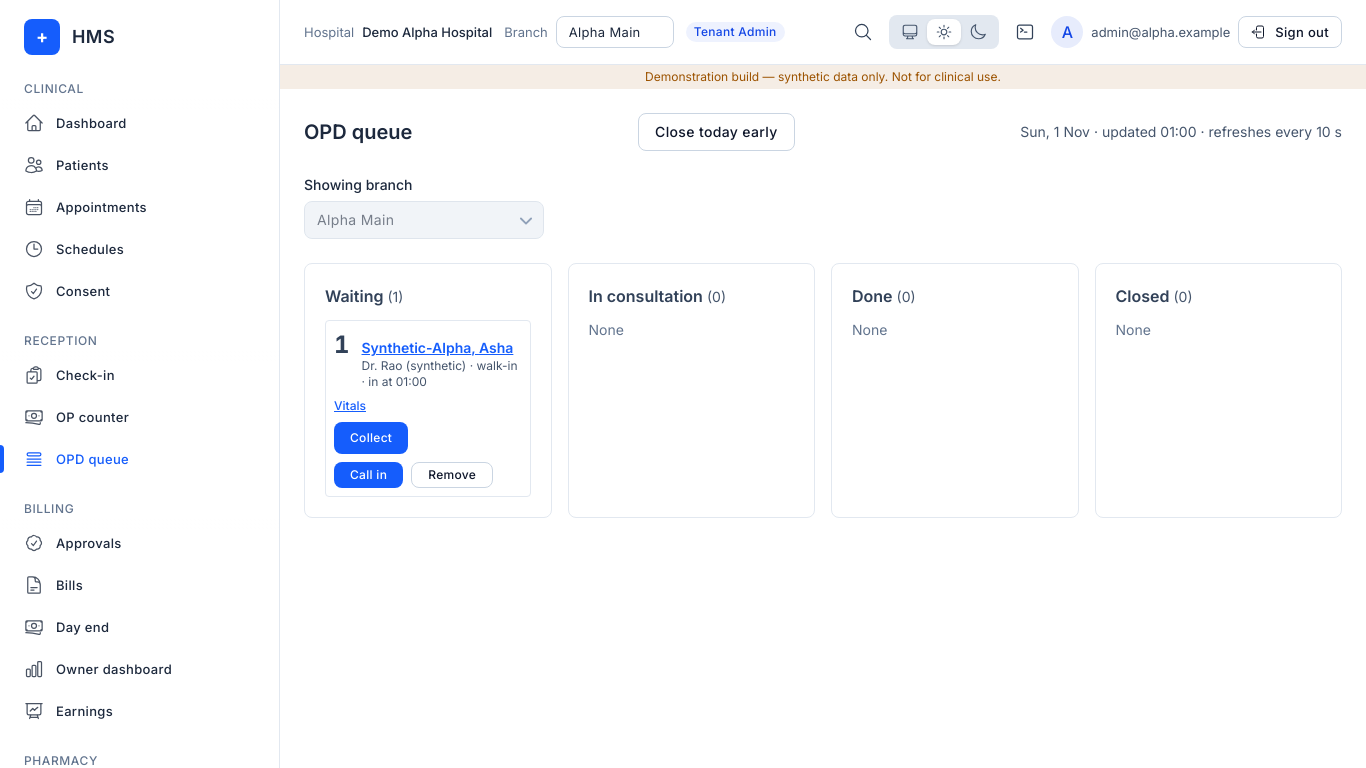
QueueBoardPage › shows the server message when the early close is refused
The image size is (1366, 768).
Click the button with test id "queue-close-day-button". click: click(716, 132)
box: [638, 113, 795, 151]
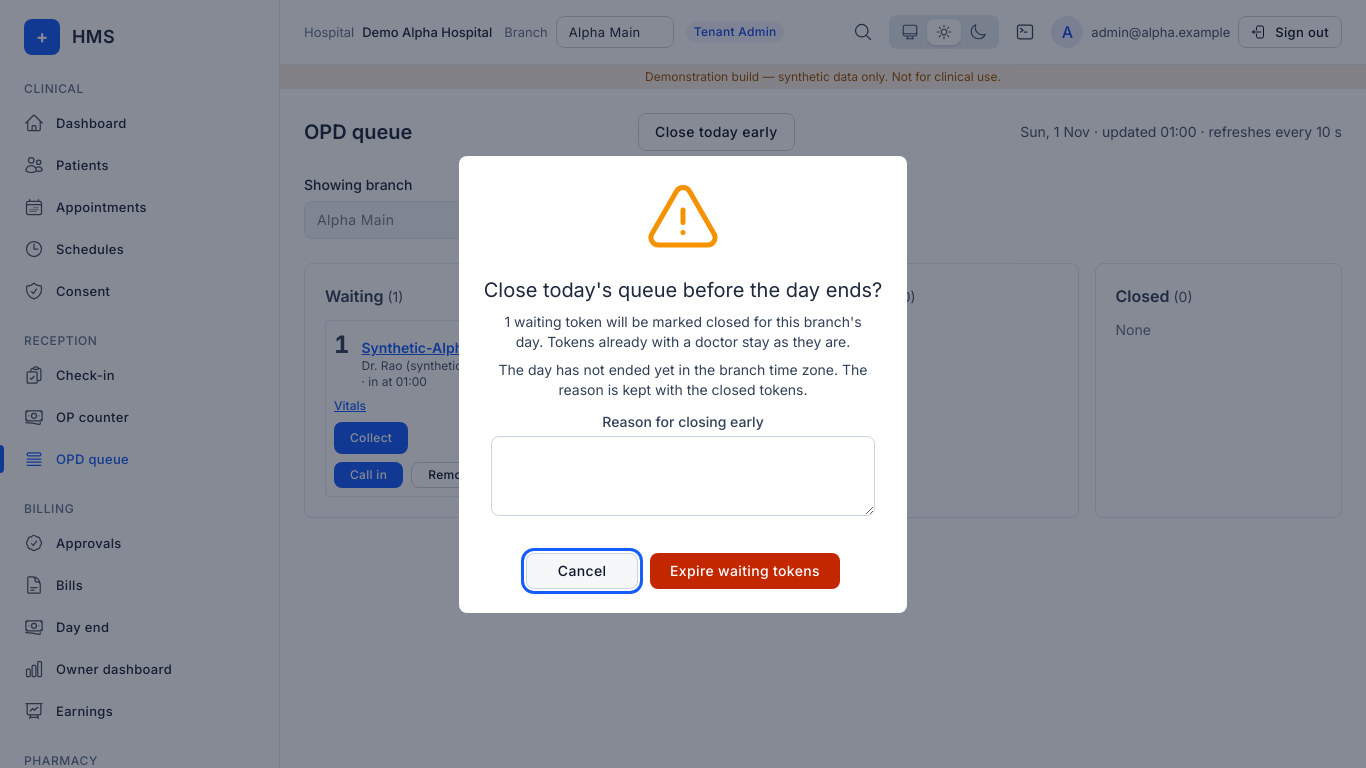
Type "Zz-QA power cut" into the text box with test id "queue-close-reason". click: (683, 476)
box: [491, 436, 875, 516]
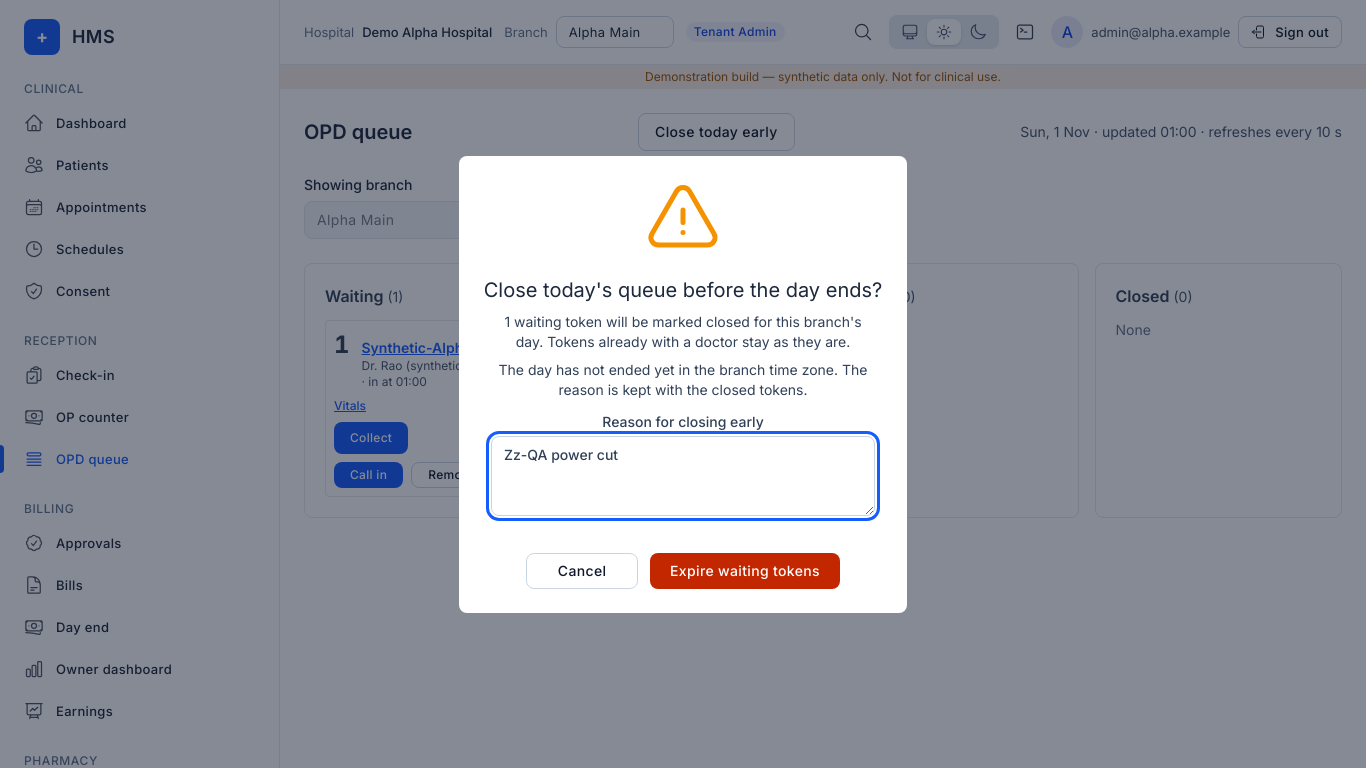
Click the button "Expire waiting tokens". click: click(745, 570)
box: [650, 552, 840, 588]
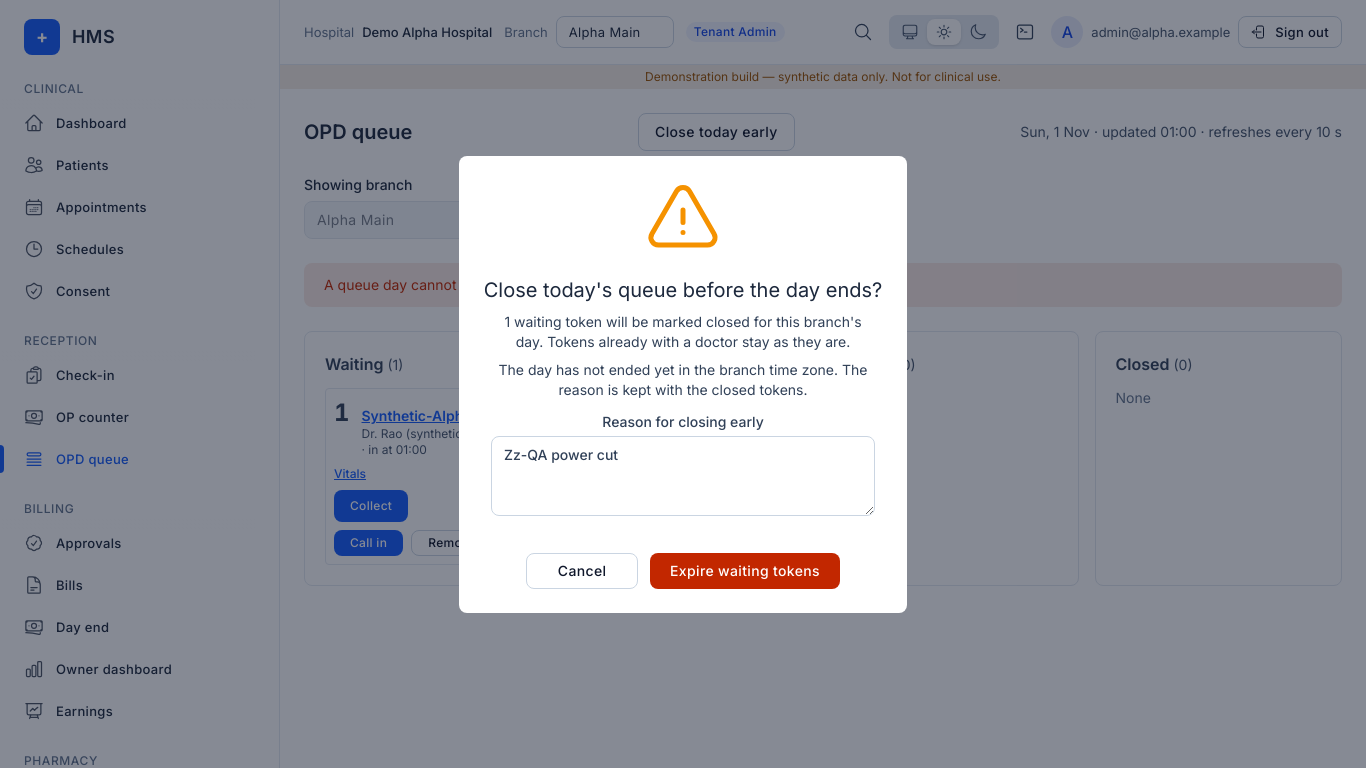
Now the text "A queue day cannot be closed before it ends in the branch time zone." is shown, box [304, 263, 1342, 307]
